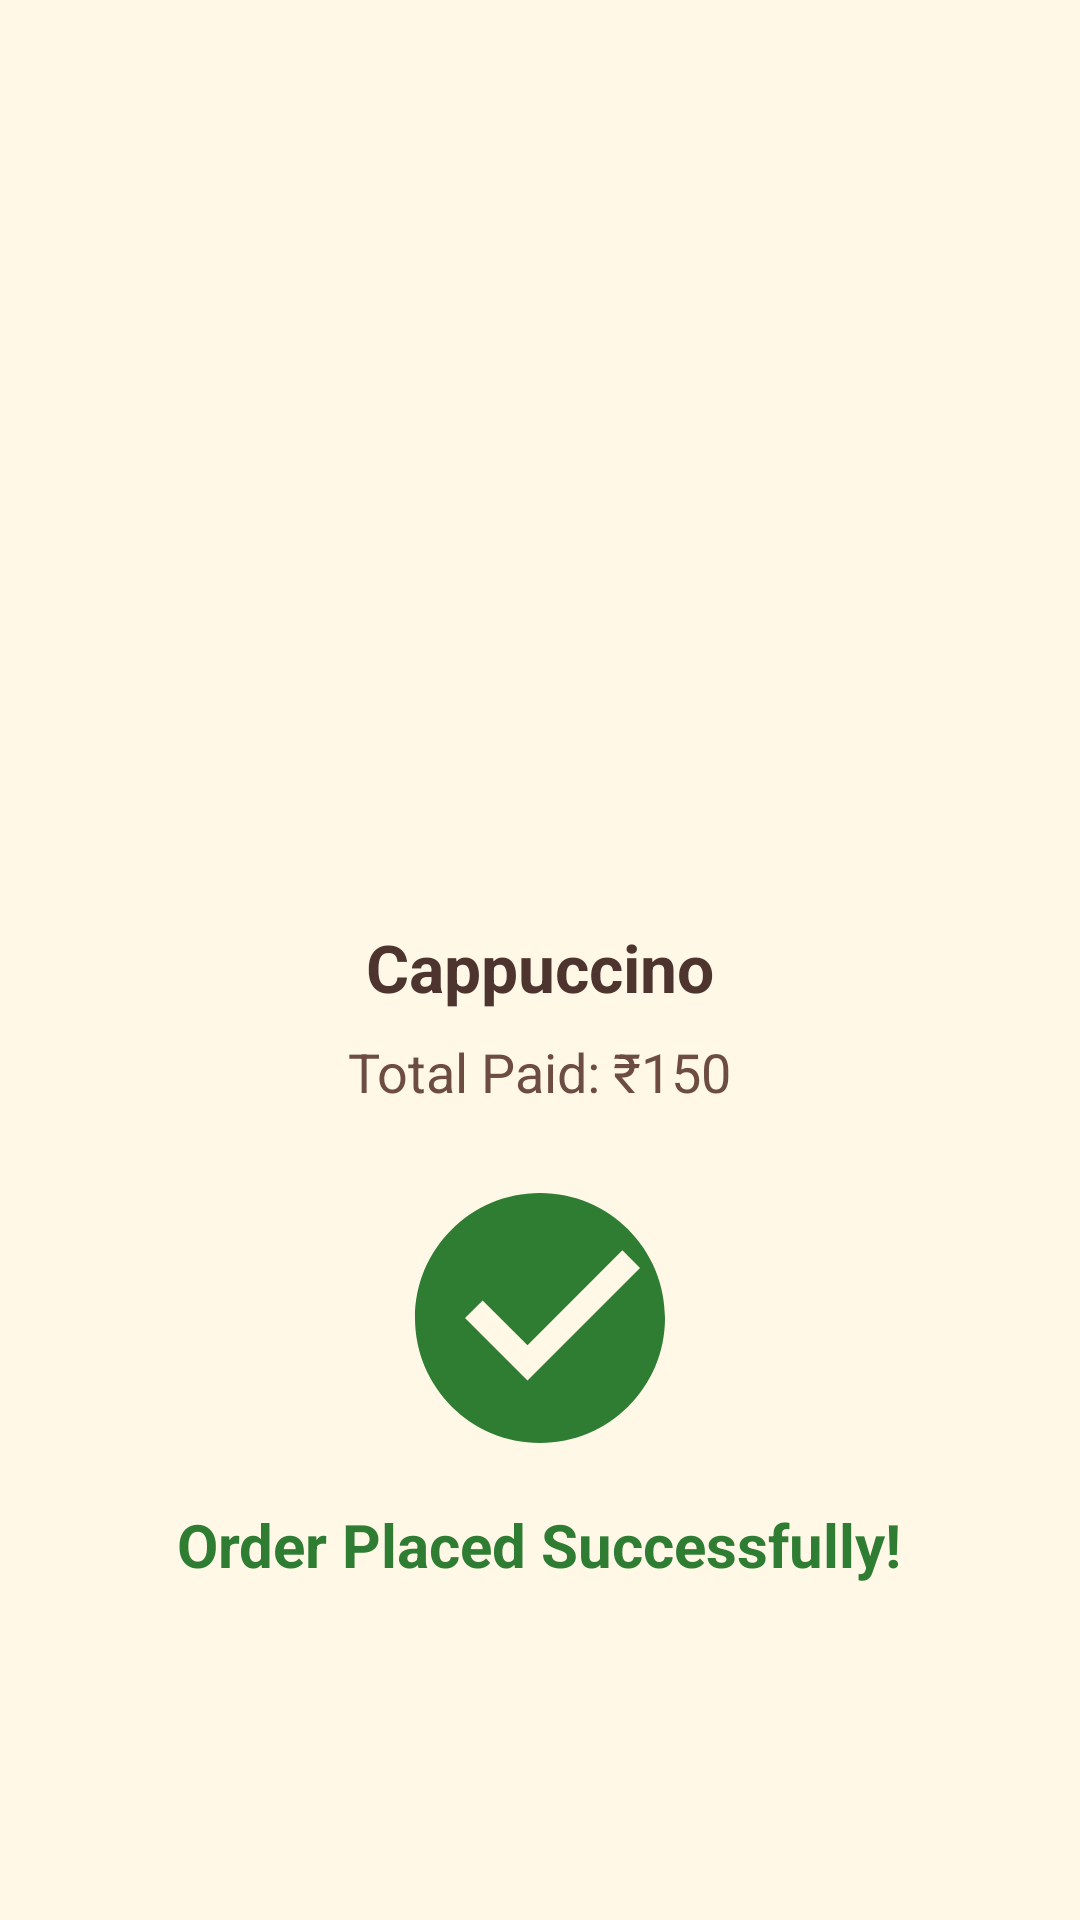

Locate icon controls on the screen. Image size 1080x1920, boxes as (x1, y1, x2, y2).
Success Icon: (415, 1193, 665, 1443)
